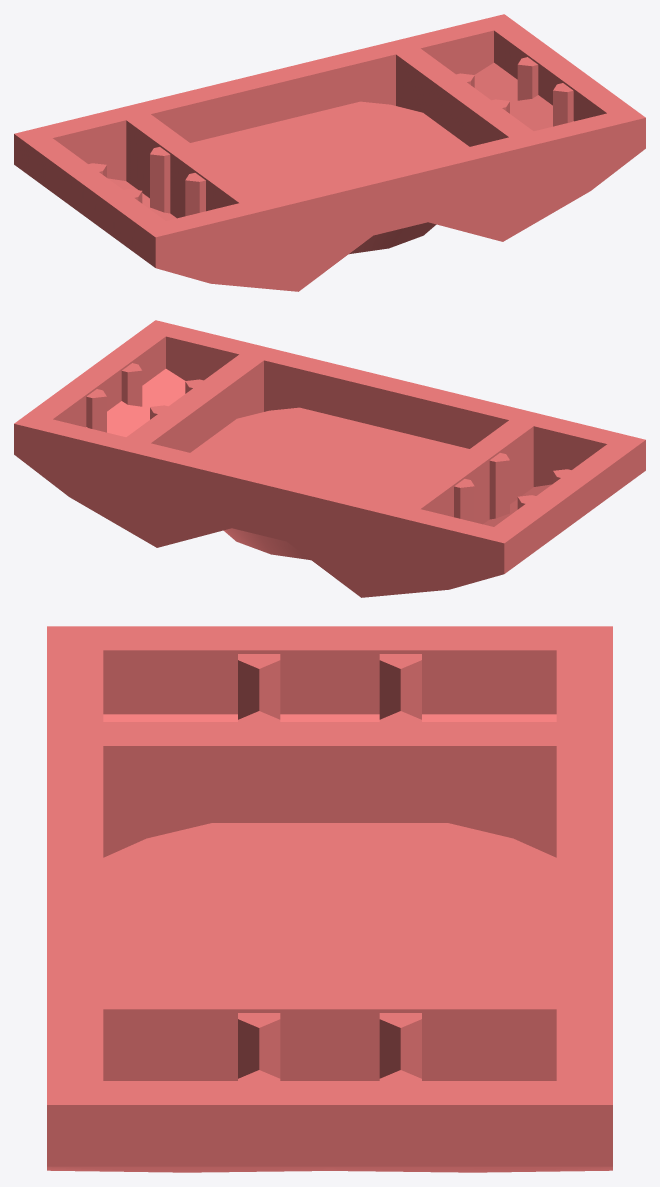
The picture shows the model from 3 angles, top to bottom: view 1: azimuth 30°, elevation 25°; view 2: azimuth 150°, elevation 25°; view 3: azimuth 270°, elevation 25°; orthographic projection. The views are drawn at different scales.
Parts seen in each view (by area): view 1: LDrawPart; view 2: LDrawPart; view 3: LDrawPart.
Boxes of the visible parts, box(x1,y1,x2,y2) form: LDrawPart: box(14, 14, 645, 291); LDrawPart: box(14, 320, 645, 597); LDrawPart: box(47, 626, 612, 1172).
Size of the model in its own units: 0.56 by 0.0975 by 0.28.
